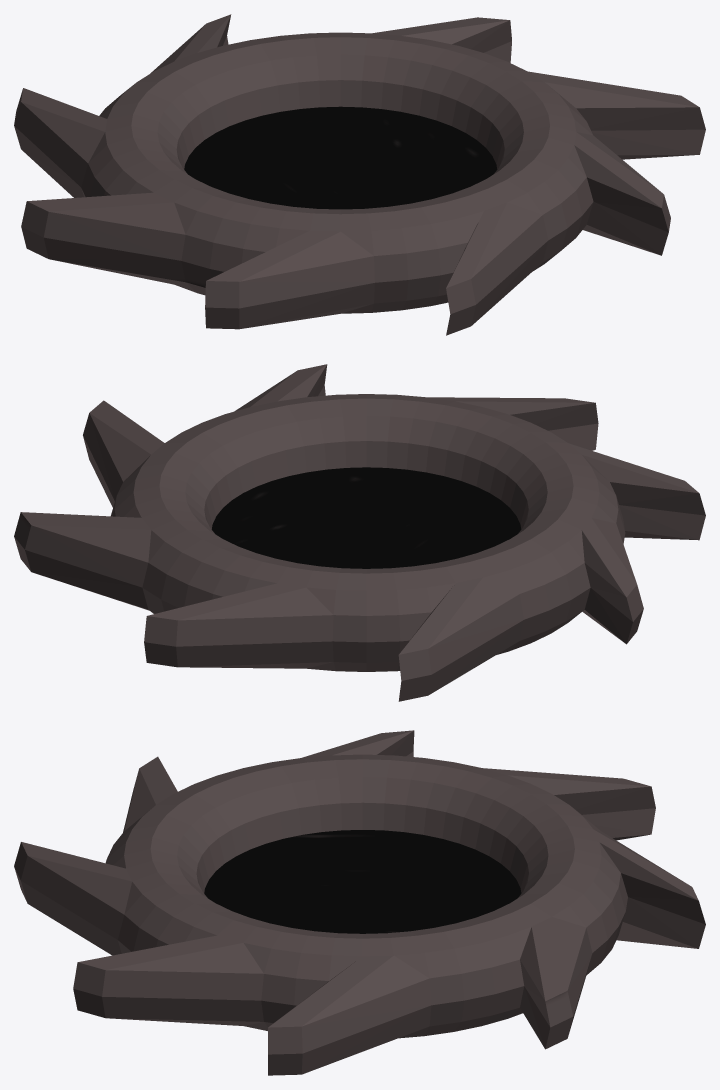
File: Pitfall.obj
3 renders of one model, top to bottom at view 1: azimuth 30°, elevation 25°; view 2: azimuth 150°, elevation 25°; view 3: azimuth 270°, elevation 25°, orthographic. The views are drawn at different scales.
Parts seen in each view (by area): view 1: トーラス; view 2: トーラス; view 3: トーラス.
Boxes of the visible parts, <box> form: トーラス: <box>14,14,705,335</box>; トーラス: <box>14,364,705,701</box>; トーラス: <box>14,730,705,1075</box>.
Bounding box in the file's own units: 3.38 × 0.5 × 3.26.
Materials: 1 (1 with a texture image).
